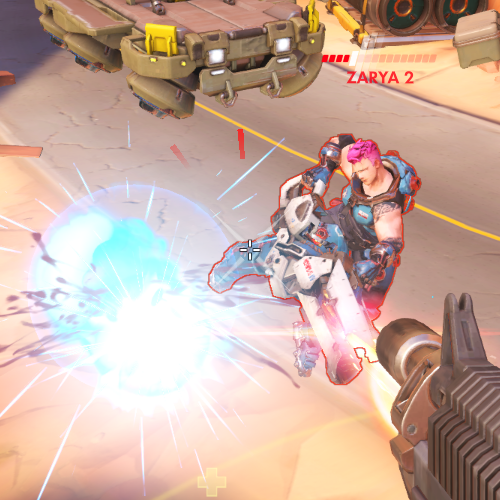hpbar: (321, 54, 438, 63)
